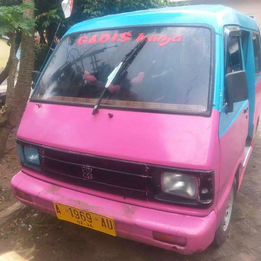plate: (51, 199, 120, 239)
